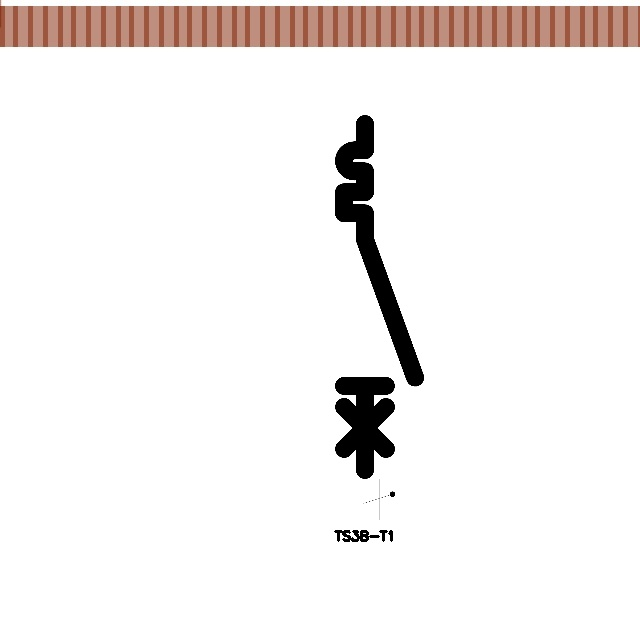interruptor_termomagnetico: (335, 115, 424, 479)
